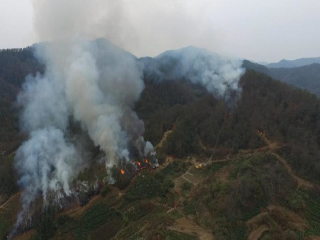smoke: (12, 11, 160, 205), (181, 40, 248, 108)
